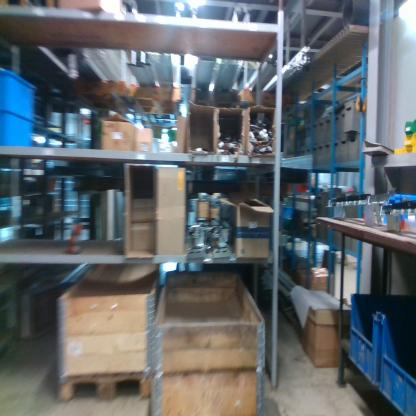pallet: (57, 369, 152, 404)
small_load_carrier: (350, 293, 415, 382), (380, 313, 415, 414)
